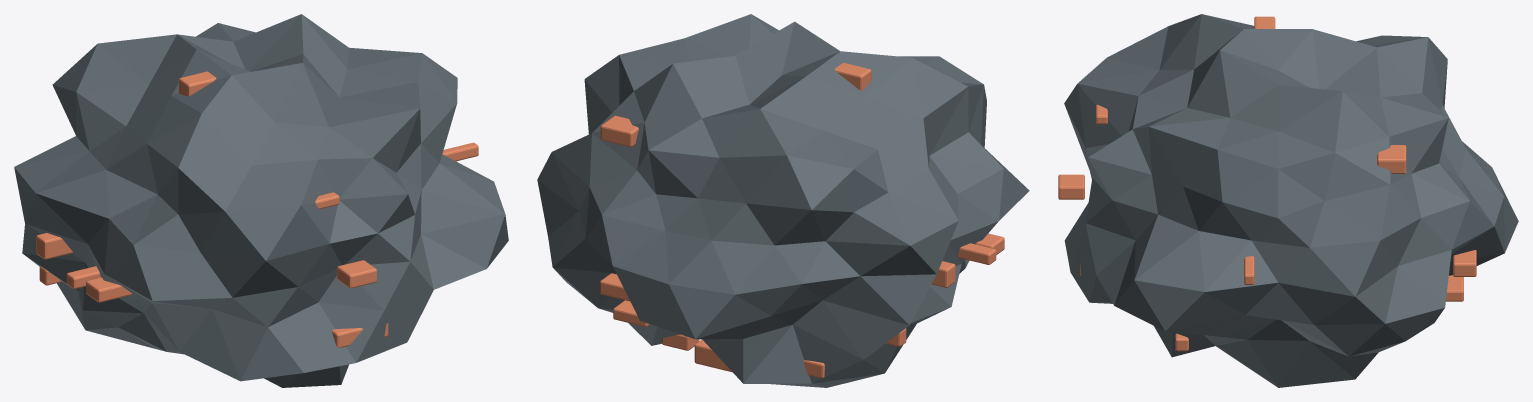
The model's file is ore_corrosion_titanium.glb.
The picture shows the model from 3 angles, left to right: view 1: azimuth 30°, elevation 25°; view 2: azimuth 150°, elevation 25°; view 3: azimuth 270°, elevation 25°; orthographic projection. The views are drawn at different scales.
Visible parts, largest first — view 1: deepforge_dark.004, ore_corrosion_titanium_vein; view 2: deepforge_dark.004, ore_corrosion_titanium_vein; view 3: deepforge_dark.004, ore_corrosion_titanium_vein.
Boxes of the visible parts, x1,y1,x2,y2 form: deepforge_dark.004: (14, 14, 508, 387); ore_corrosion_titanium_vein: (36, 71, 478, 347); deepforge_dark.004: (537, 14, 1029, 387); ore_corrosion_titanium_vein: (600, 62, 1004, 378); deepforge_dark.004: (1064, 14, 1518, 387); ore_corrosion_titanium_vein: (1058, 16, 1476, 351).
Bounding box in the file's own units: 47.08 × 34.93 × 46.69.
